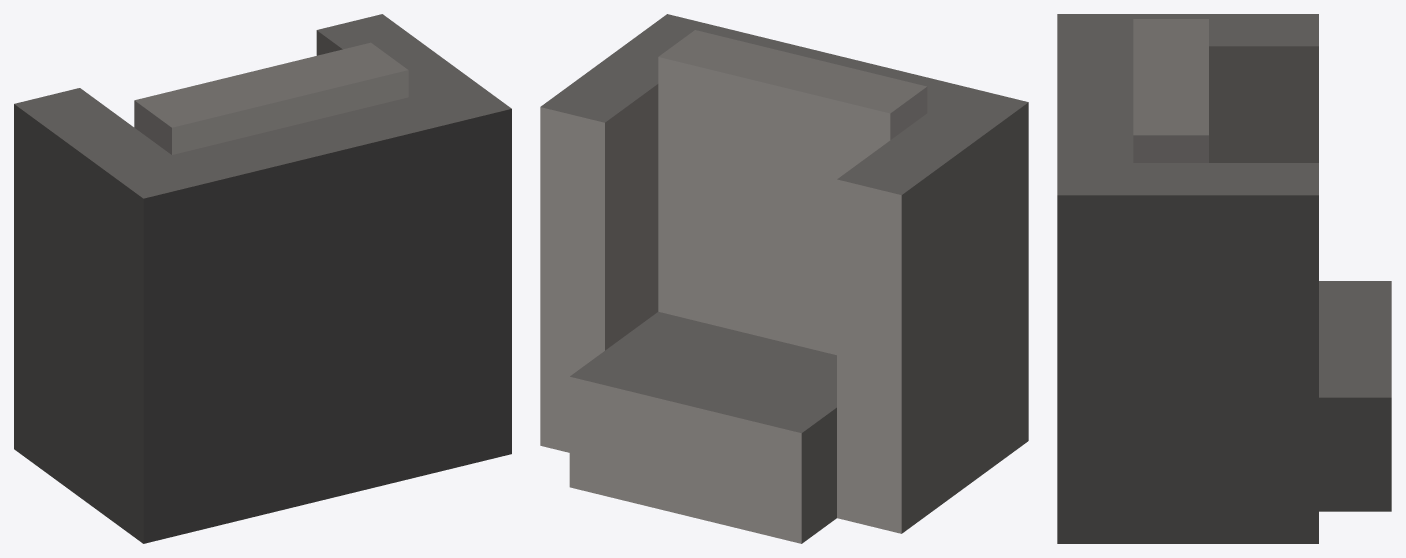
Rendered from Couch.glb.
The picture shows the model from 3 angles, left to right: view 1: azimuth 30°, elevation 25°; view 2: azimuth 150°, elevation 25°; view 3: azimuth 270°, elevation 25°; orthographic projection. The views are drawn at different scales.
Parts seen in each view (by area): view 1: SO_Couch_01; view 2: SO_Couch_01; view 3: SO_Couch_01.
Boxes of the visible parts, x1,y1,x2,y2 form: SO_Couch_01: [14, 14, 511, 543]; SO_Couch_01: [540, 14, 1028, 543]; SO_Couch_01: [1057, 14, 1391, 543].
Size of the model in its own units: 1.59 by 1.53 by 1.23.
1 material, 1 textured.
